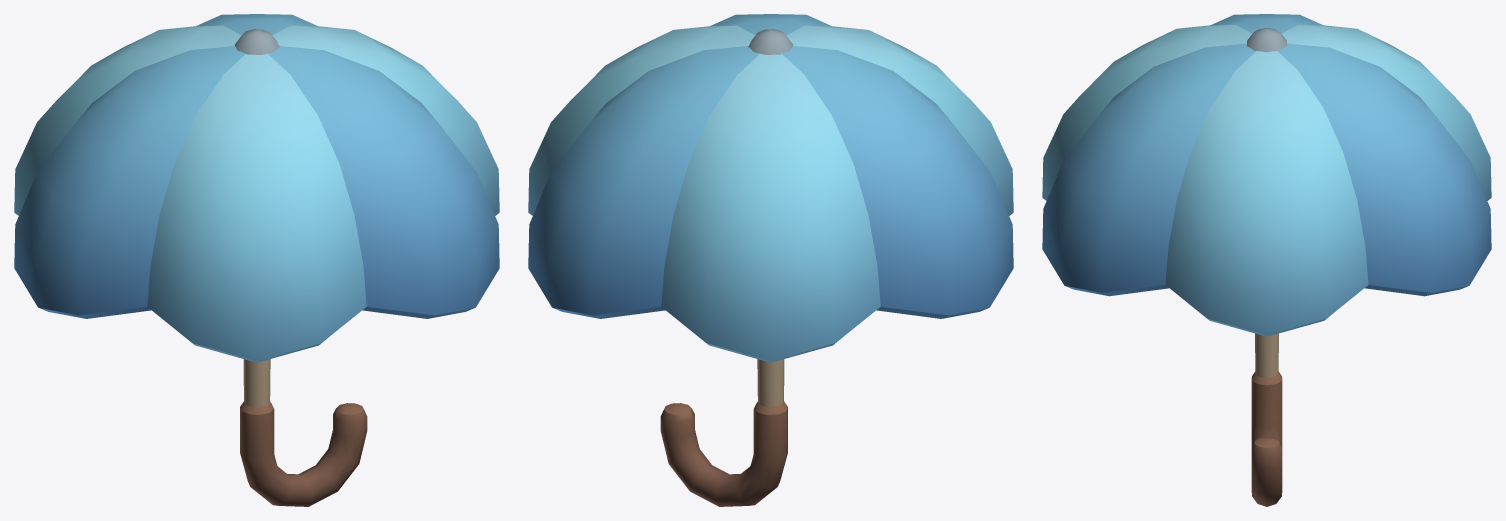
File: umbrella_blue.glb
3 renders of one model, left to right at view 1: azimuth 30°, elevation 25°; view 2: azimuth 150°, elevation 25°; view 3: azimuth 270°, elevation 25°, orthographic. The views are drawn at different scales.
Visible parts, largest first — view 1: umbrella_blue; view 2: umbrella_blue; view 3: umbrella_blue.
Boxes of the visible parts, x1,y1,x2,y2 form: umbrella_blue: [14, 14, 499, 506]; umbrella_blue: [528, 14, 1013, 506]; umbrella_blue: [1042, 14, 1491, 506].
Bounding box in the file's own units: 1.77 × 1.86 × 1.68.
1 material, 1 textured.
